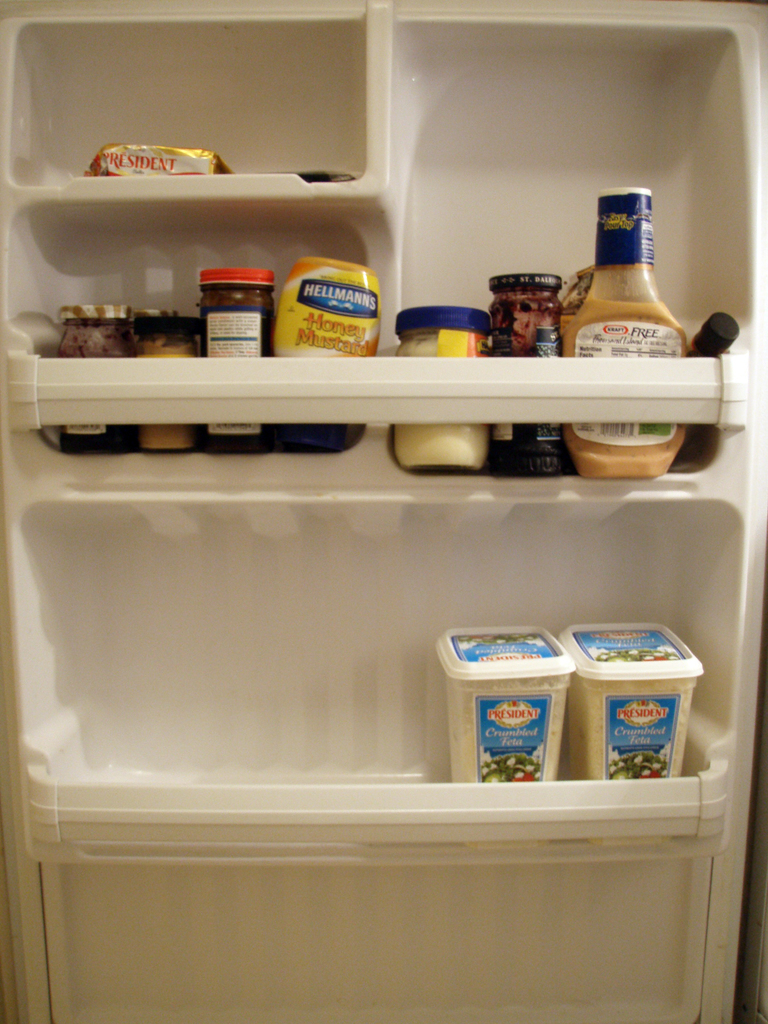refrigerator door: (15, 38, 725, 1020)
